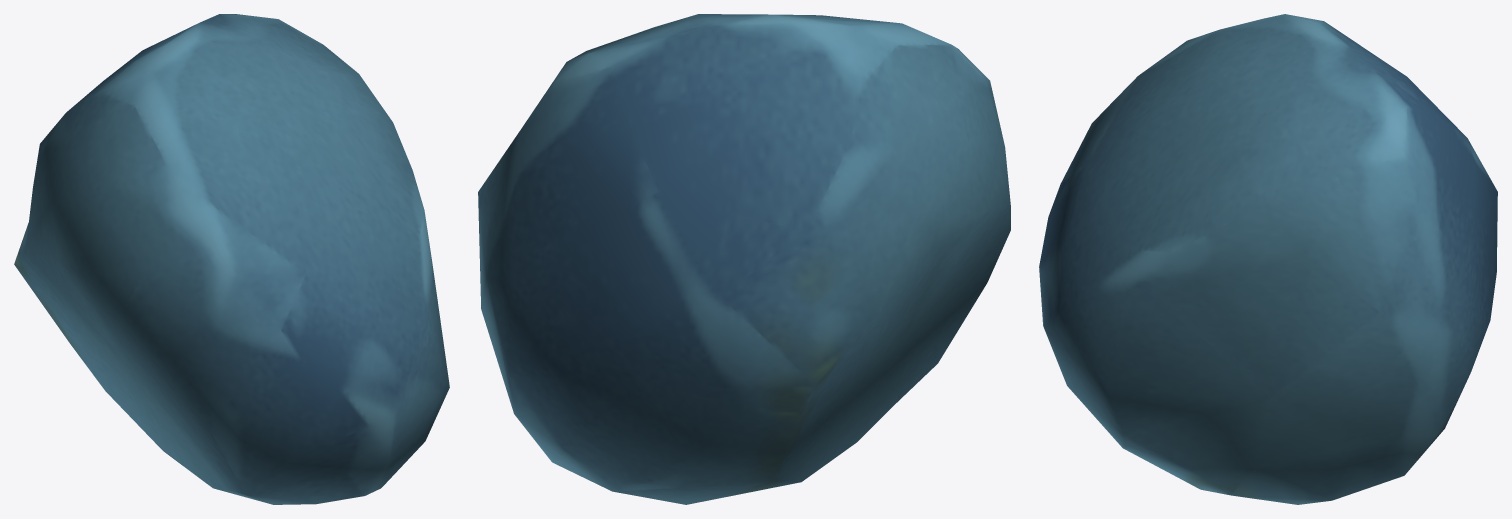
File: Stone_01.fbx
The picture shows the model from 3 angles, left to right: view 1: azimuth 30°, elevation 25°; view 2: azimuth 150°, elevation 25°; view 3: azimuth 270°, elevation 25°; orthographic projection. The views are drawn at different scales.
Parts seen in each view (by area): view 1: Cube.008; view 2: Cube.008; view 3: Cube.008.
Part boxes in pixels (x1,y1,x2,y2): Cube.008: (14, 14, 449, 504); Cube.008: (478, 14, 1010, 504); Cube.008: (1039, 14, 1497, 504).
Bounding box in the file's own units: 157 × 175 × 175.
